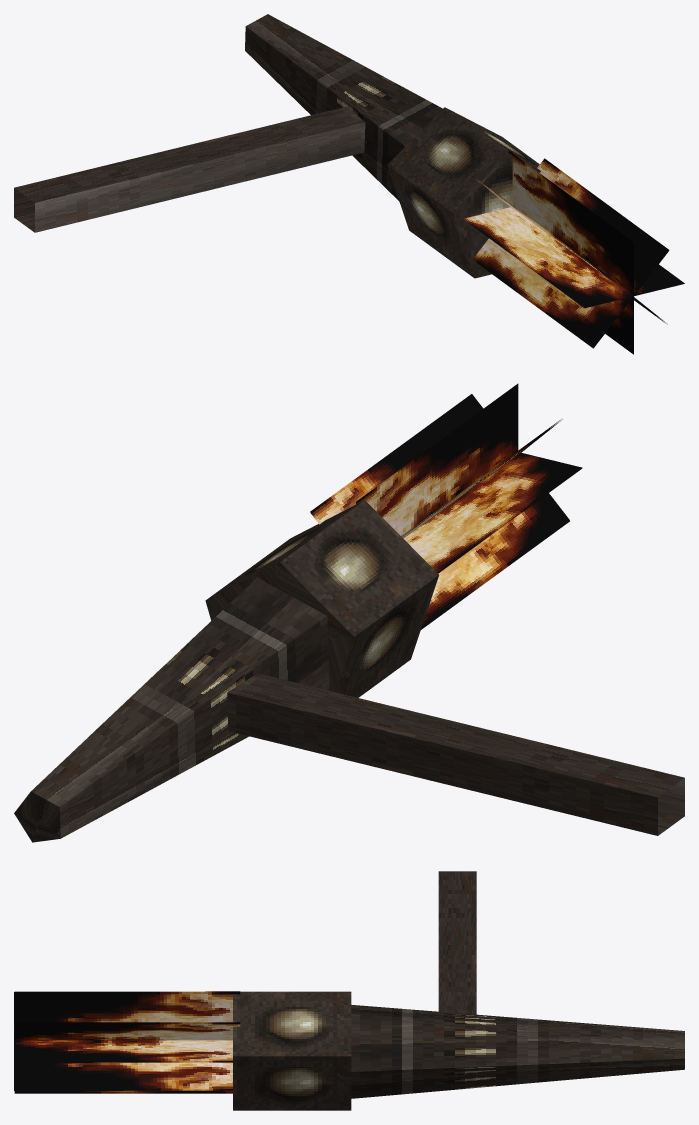
Rendered from torchpoint.obj.
3 views of the same model, one above another, from view 1: azimuth 30°, elevation 25°; view 2: azimuth 150°, elevation 25°; view 3: azimuth 270°, elevation 25° (orthographic). The views are drawn at different scales.
Size of the model in its own units: 3.36 by 0.8896 by 5.17.
Materials: 5 (5 with a texture image).
